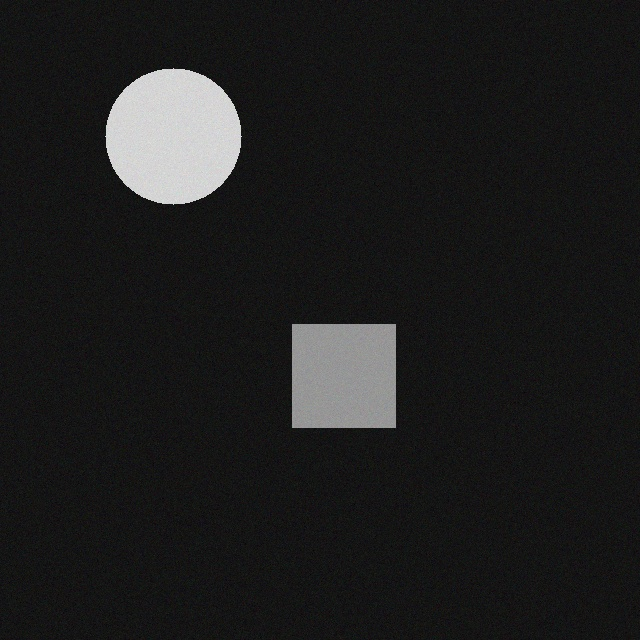circle: (96, 76, 232, 212)
square: (283, 332, 386, 435)
